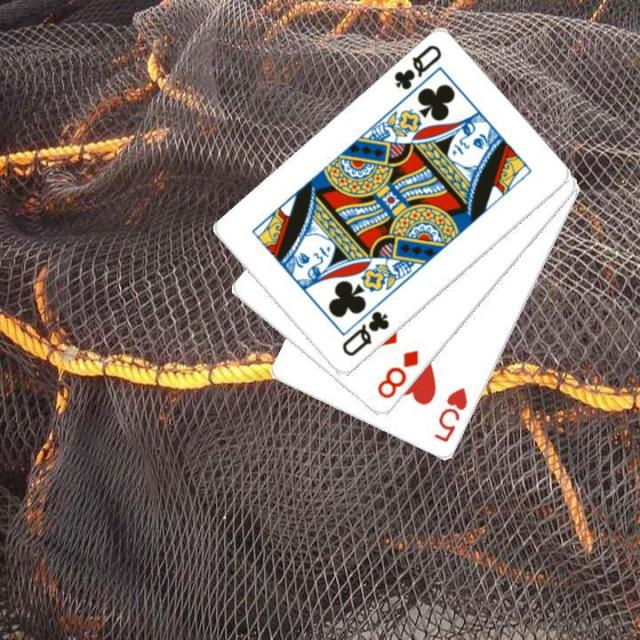5H: (430, 384, 470, 445)
8D: (374, 346, 422, 402)
QC: (389, 41, 444, 93), (338, 307, 391, 359)
